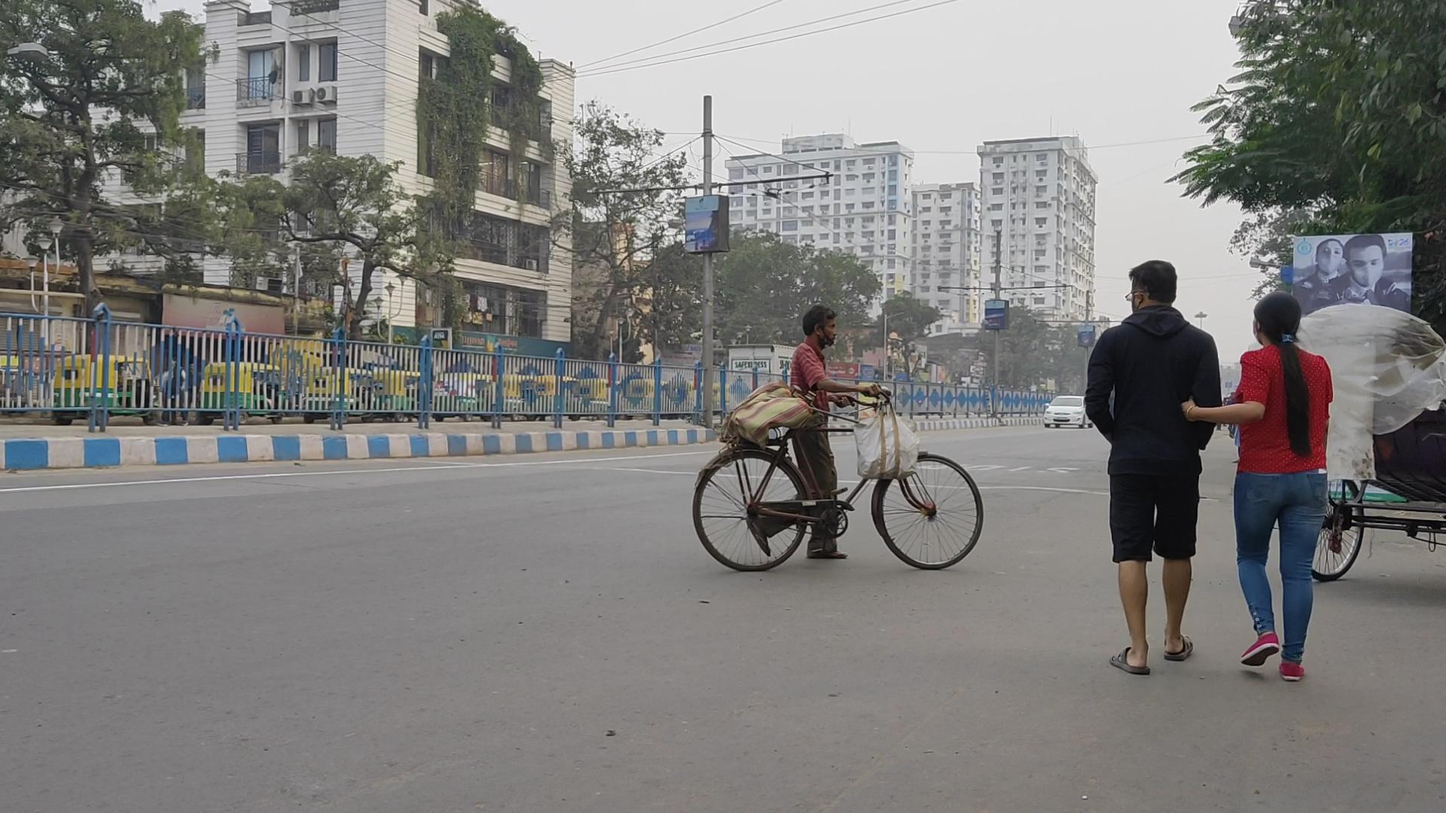bike: (693, 305, 985, 573)
car: (1043, 395, 1095, 429)
